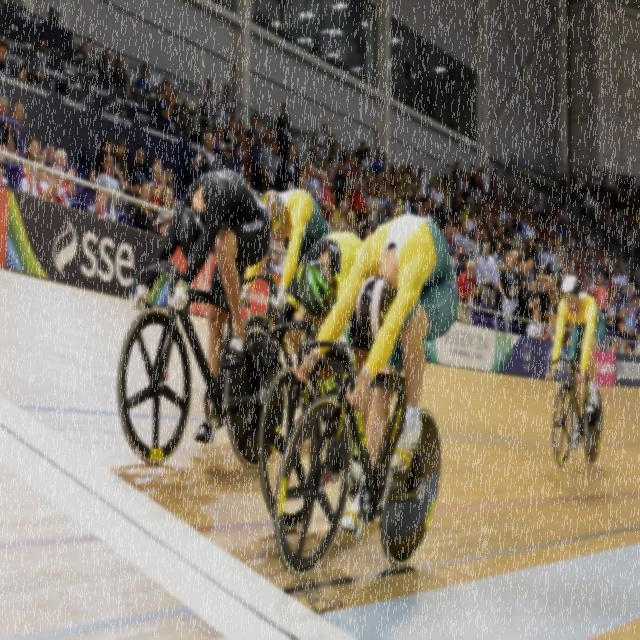pessoa: (291, 211, 462, 539), (126, 164, 272, 452), (262, 229, 376, 496), (238, 186, 334, 364), (451, 163, 548, 290), (542, 272, 607, 454), (596, 175, 640, 357), (548, 165, 596, 312), (382, 152, 416, 224), (89, 136, 129, 192), (95, 150, 128, 215), (18, 151, 59, 201), (454, 258, 482, 326), (133, 181, 166, 237), (474, 241, 500, 310), (432, 168, 452, 256), (20, 134, 55, 181), (245, 112, 263, 196), (188, 128, 222, 172), (497, 254, 518, 324), (158, 80, 182, 138), (52, 147, 78, 200), (375, 184, 394, 256), (148, 162, 176, 210), (0, 94, 21, 157), (42, 163, 70, 208), (233, 126, 252, 188), (316, 168, 336, 226), (262, 138, 283, 192), (86, 182, 114, 222), (279, 142, 301, 192), (364, 180, 384, 234), (114, 183, 141, 223), (112, 137, 132, 190), (128, 146, 150, 194), (258, 128, 274, 194), (110, 53, 133, 98), (524, 279, 542, 336), (275, 101, 292, 161), (156, 185, 174, 237), (332, 159, 350, 210), (304, 160, 323, 205), (12, 101, 28, 151), (352, 178, 372, 217), (216, 84, 233, 129), (490, 240, 508, 282), (198, 92, 214, 138), (525, 304, 544, 341), (416, 178, 432, 220), (352, 161, 370, 197), (222, 115, 238, 155), (414, 164, 429, 204), (538, 278, 551, 324), (330, 200, 348, 233), (466, 162, 478, 210), (200, 78, 217, 110), (34, 32, 50, 66), (400, 182, 416, 215), (339, 149, 357, 178), (304, 34, 322, 62), (450, 160, 463, 198), (592, 164, 604, 204), (10, 62, 30, 86), (133, 62, 151, 88), (542, 312, 557, 343), (317, 122, 331, 155), (361, 147, 374, 181), (226, 147, 240, 176), (96, 46, 109, 77), (599, 166, 609, 206), (295, 168, 310, 192), (160, 214, 174, 238), (372, 147, 384, 174), (510, 249, 520, 281), (0, 41, 9, 74), (320, 160, 332, 181), (76, 36, 86, 61), (213, 120, 224, 142), (329, 136, 339, 160), (354, 139, 366, 158), (169, 78, 180, 98), (345, 183, 353, 210), (363, 226, 374, 242), (346, 210, 356, 226), (156, 81, 162, 100), (152, 156, 162, 167), (270, 121, 276, 137), (238, 118, 246, 129), (376, 170, 382, 184)
